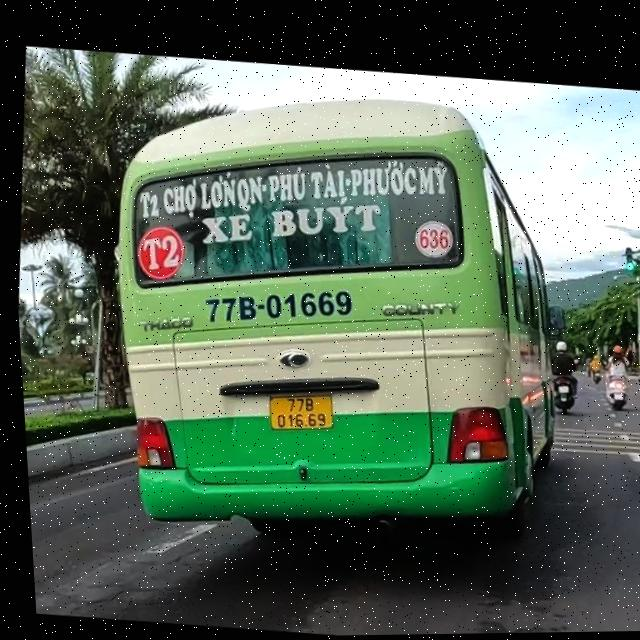car: (80, 67, 595, 569)
plate: (258, 383, 348, 439)
